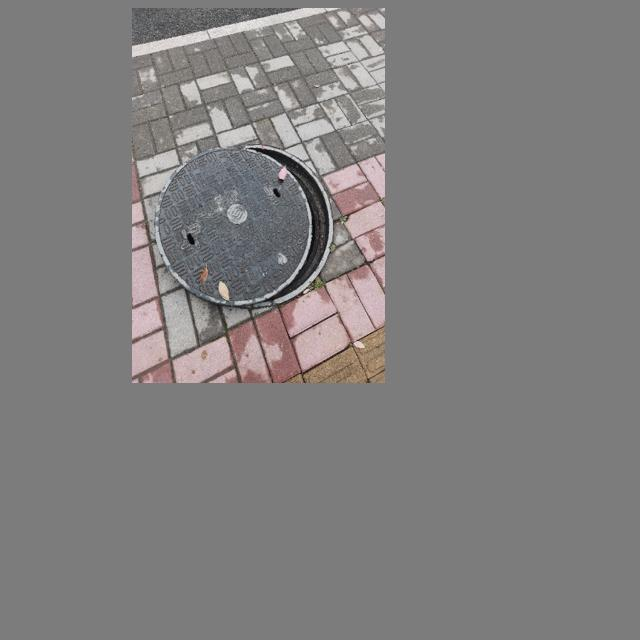uncovered: (150, 148, 340, 307)
